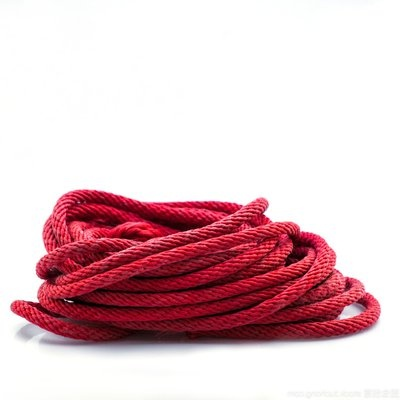9/可回收垃圾/绳子: (9, 188, 381, 344)
